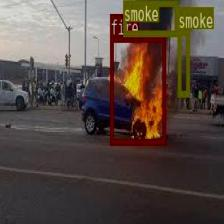fire: (109, 35, 165, 144)
smoke: (122, 0, 177, 35), (177, 29, 188, 96)
